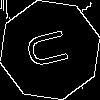U: (25, 25, 78, 71)
